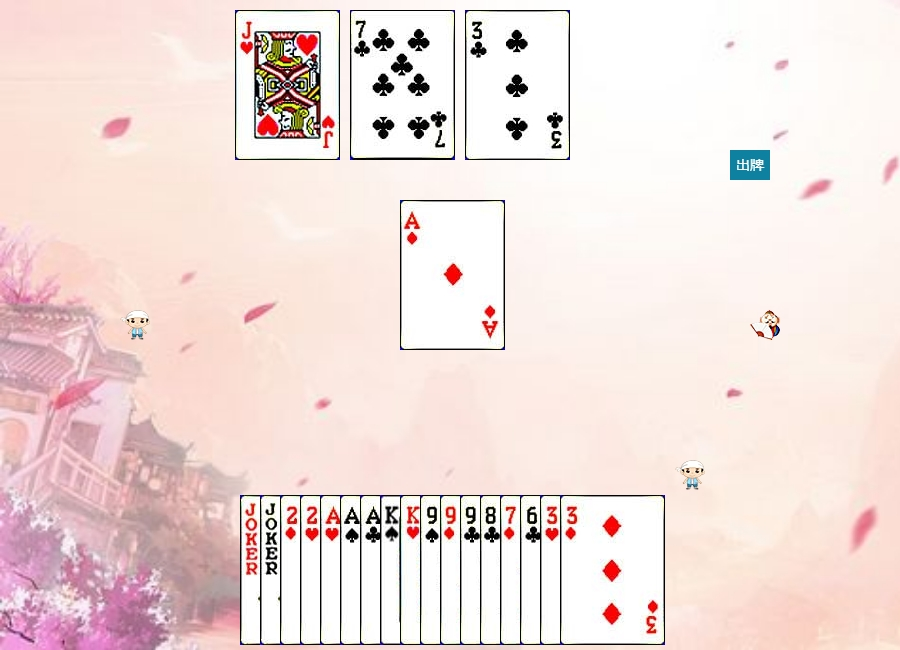11~3: (235, 10, 340, 160)
13~3: (400, 495, 505, 645)
13~4: (380, 495, 485, 645)
14~1: (400, 200, 505, 350)
14~2: (360, 495, 465, 645)
14~3: (320, 495, 425, 645)
14~4: (340, 495, 445, 645)
15~1: (280, 495, 385, 645)
15~3: (300, 495, 405, 645)
17~3: (260, 495, 365, 645)
18~4: (240, 495, 345, 645)
3~1: (560, 495, 665, 645)
3~2: (465, 10, 570, 160)
3~3: (540, 495, 645, 645)
6~2: (520, 495, 625, 645)
7~1: (500, 495, 605, 645)
7~2: (350, 10, 455, 160)
8~2: (480, 495, 585, 645)
9~1: (440, 495, 545, 645)
9~2: (460, 495, 565, 645)
9~4: (420, 495, 525, 645)
